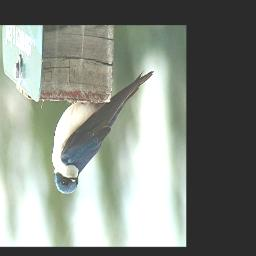Swallow: (52, 69, 155, 194)
